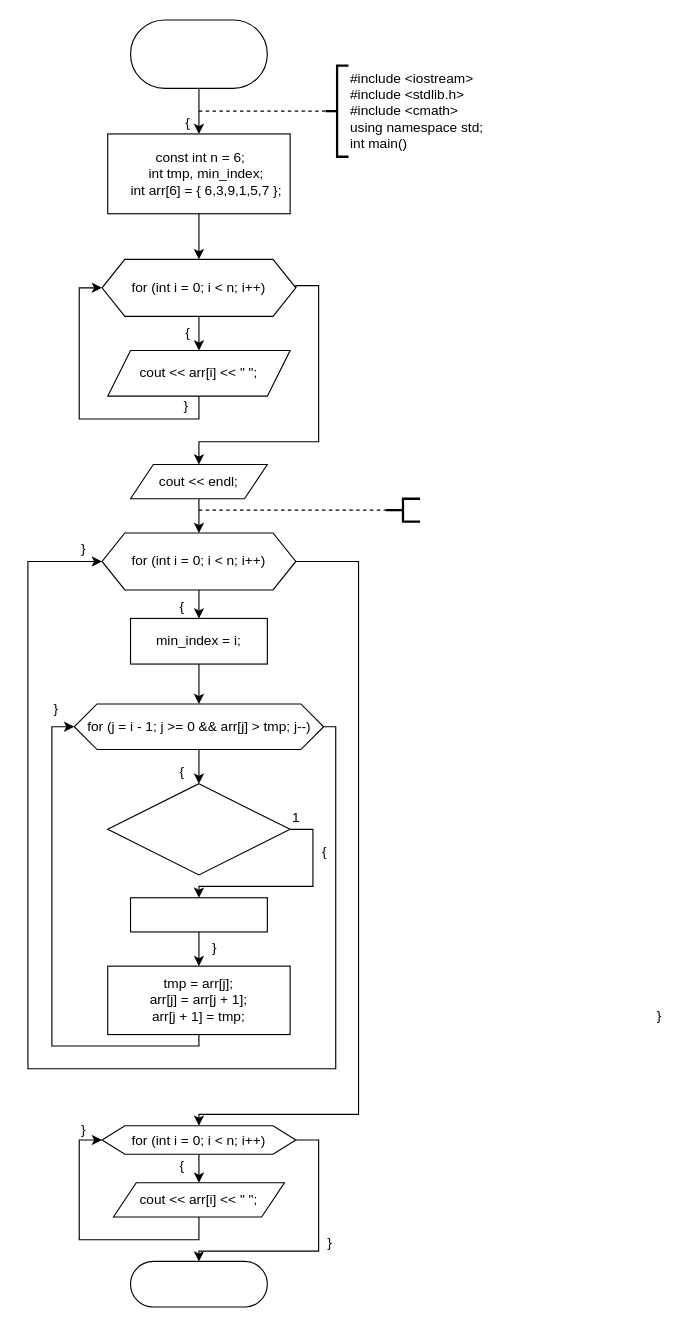
The diagram is 698 pixels wide and 1327 high, and some of its shapes have lost their labels. Here are the shapes that lost their labels. From the top down, the box of each, then its label:
(129, 19, 267, 88): Начало
(384, 497, 421, 522): //Сортировка выборкой
(107, 783, 290, 875): if (arr[j] < arr[min_index])
(129, 897, 267, 932): min_index = j;
(129, 1260, 267, 1307): Конец
